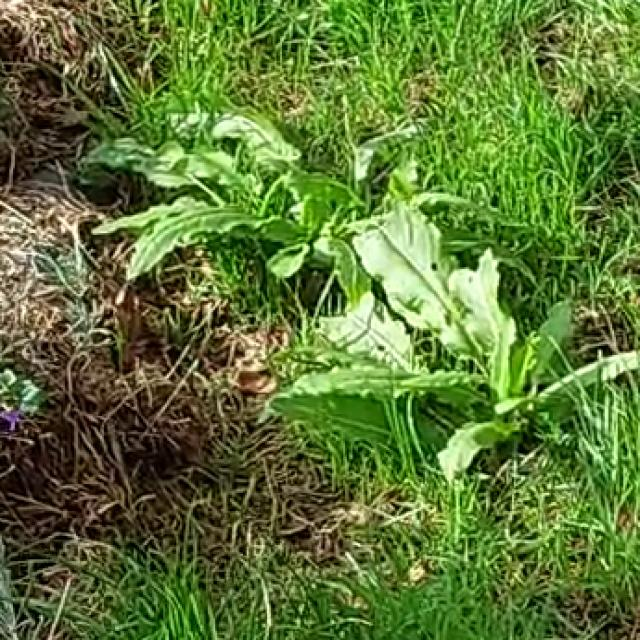organic waste: (221, 192, 621, 502), (24, 81, 419, 328)
